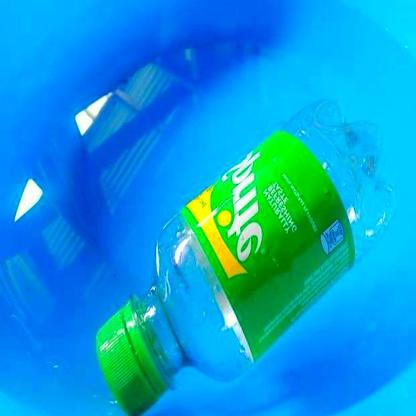plastic bottle: (95, 97, 396, 414)
